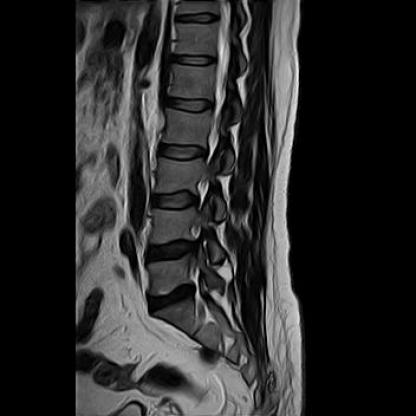Disc Bulgerotation: (141, 285, 208, 316), (141, 235, 200, 269)
